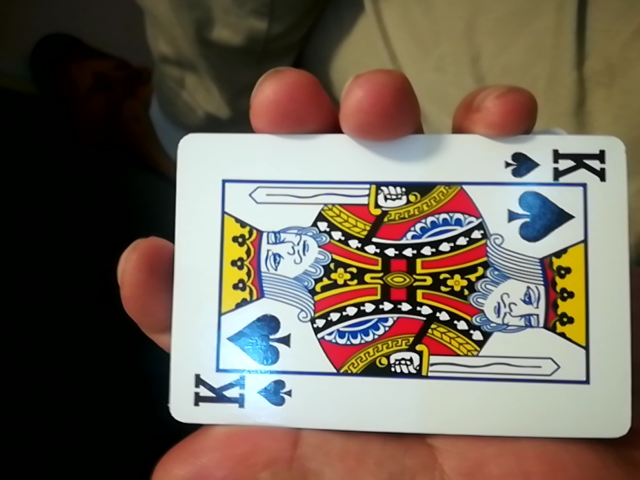ht k: (155, 125, 624, 448)
